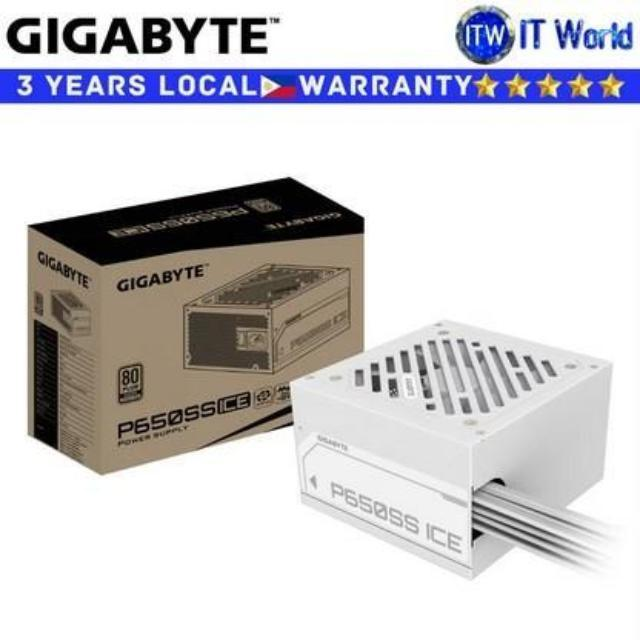PSU: (258, 313, 620, 599)
